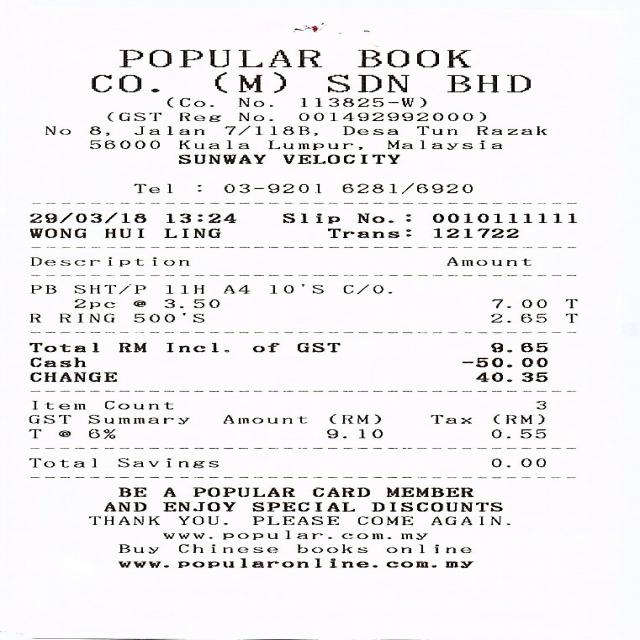text: (117, 48, 321, 68), (176, 557, 472, 568), (358, 48, 470, 68), (220, 530, 427, 540), (298, 111, 484, 121), (430, 212, 574, 223), (341, 182, 471, 194), (214, 71, 284, 93), (445, 74, 529, 92), (298, 96, 424, 108), (325, 74, 408, 92), (29, 257, 188, 266), (89, 74, 159, 93), (369, 501, 501, 511), (28, 212, 144, 223), (282, 154, 398, 164), (387, 140, 500, 150), (117, 457, 217, 468), (221, 124, 309, 136), (252, 501, 354, 511), (27, 371, 115, 382), (224, 183, 320, 193), (460, 357, 547, 368), (432, 227, 518, 238), (386, 486, 472, 497), (86, 415, 188, 424), (192, 487, 294, 496), (178, 154, 264, 164), (444, 256, 530, 266), (327, 228, 411, 238), (221, 414, 305, 424), (475, 371, 548, 382), (176, 544, 276, 552), (164, 212, 235, 223), (266, 140, 351, 149), (386, 544, 471, 553), (160, 501, 233, 511), (131, 312, 203, 322), (430, 516, 510, 525), (74, 284, 145, 294), (89, 139, 159, 149), (177, 139, 247, 149), (28, 342, 98, 352), (251, 516, 337, 524), (104, 400, 172, 410), (28, 457, 96, 467), (281, 212, 337, 224), (87, 516, 159, 525), (132, 126, 202, 135), (476, 126, 546, 135), (297, 544, 367, 553), (312, 486, 369, 497), (28, 357, 84, 368), (488, 342, 546, 352), (164, 343, 228, 352), (163, 228, 220, 238), (329, 413, 380, 424), (28, 228, 84, 238), (489, 312, 545, 322), (326, 428, 382, 438), (57, 312, 112, 322), (268, 284, 322, 294), (30, 400, 84, 410), (490, 428, 544, 438), (490, 457, 544, 467), (107, 111, 160, 121), (491, 414, 543, 424), (166, 96, 213, 107), (489, 299, 545, 308), (342, 126, 397, 135), (164, 299, 219, 308), (341, 284, 390, 294), (358, 516, 412, 525), (178, 112, 220, 122), (28, 414, 70, 424), (428, 414, 470, 424), (355, 212, 393, 223), (131, 183, 172, 193), (103, 228, 144, 238), (117, 544, 158, 554), (116, 560, 167, 568), (74, 299, 114, 309), (104, 501, 144, 511), (296, 343, 340, 352), (178, 516, 227, 524), (164, 284, 202, 294), (414, 126, 456, 135), (236, 97, 272, 106), (85, 428, 114, 439), (162, 533, 212, 539), (236, 112, 272, 120), (118, 342, 146, 352), (221, 284, 248, 294), (27, 284, 54, 294), (115, 487, 145, 496), (250, 343, 278, 352), (43, 126, 69, 134), (564, 312, 576, 322), (534, 400, 546, 410), (28, 428, 40, 438), (161, 487, 174, 496), (131, 299, 145, 307), (564, 299, 576, 308), (58, 429, 70, 437), (30, 313, 40, 322), (89, 126, 100, 134)
